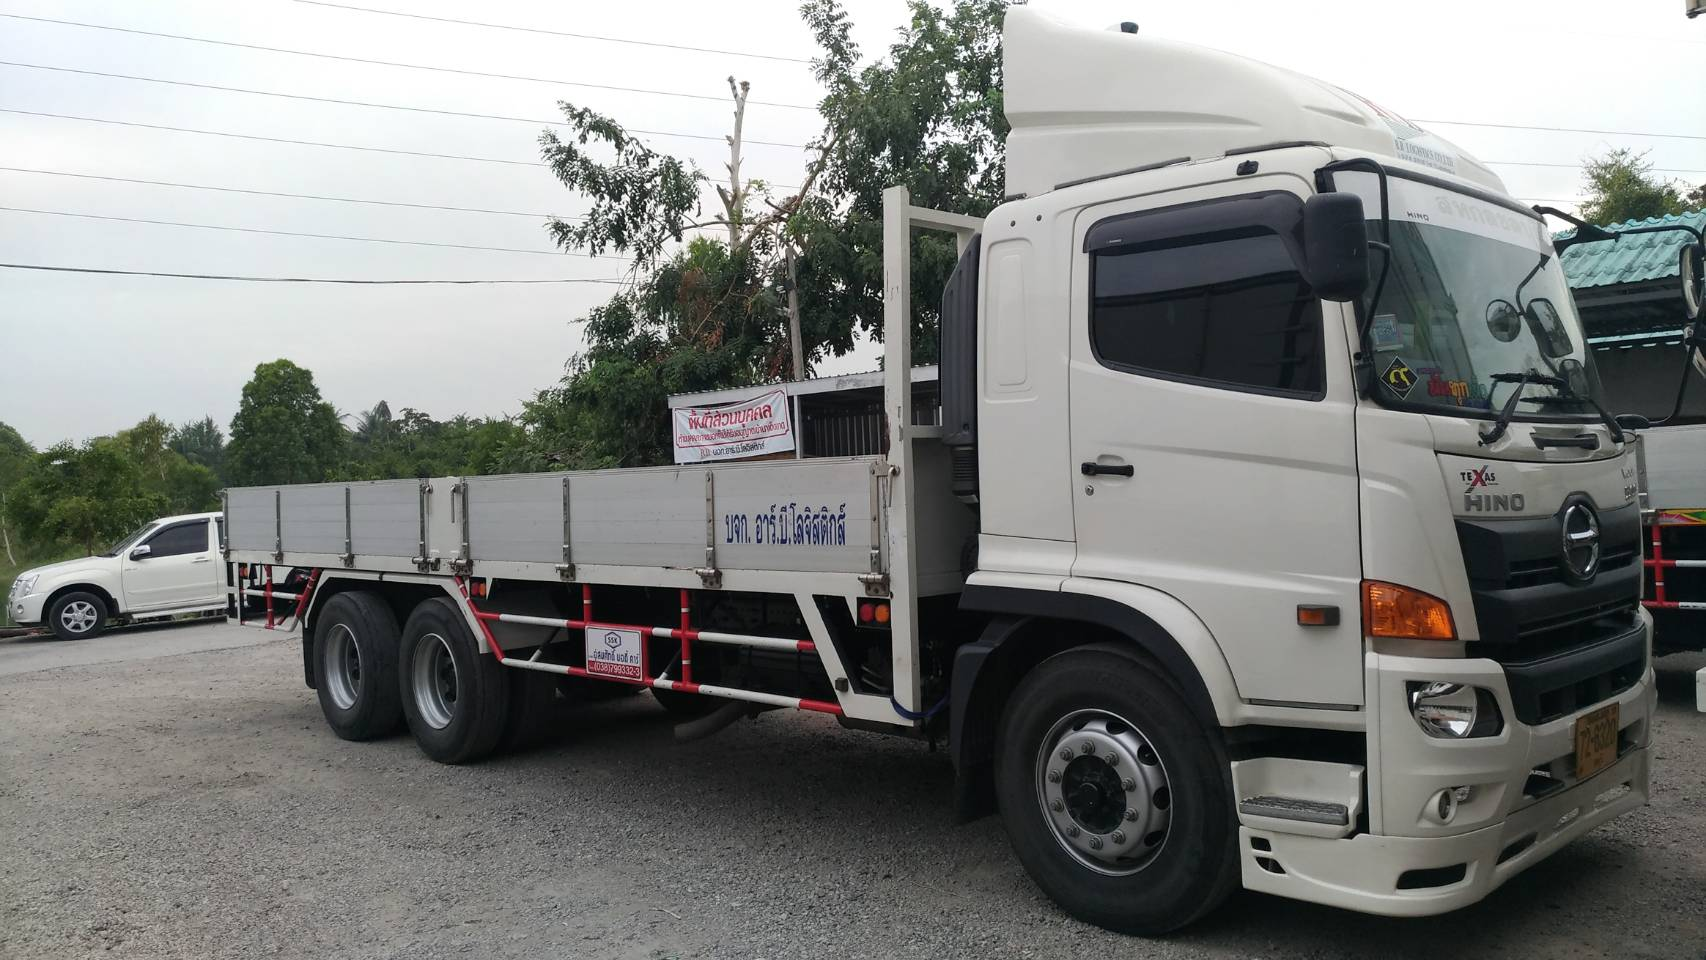truck: (953, 4, 1661, 935)
